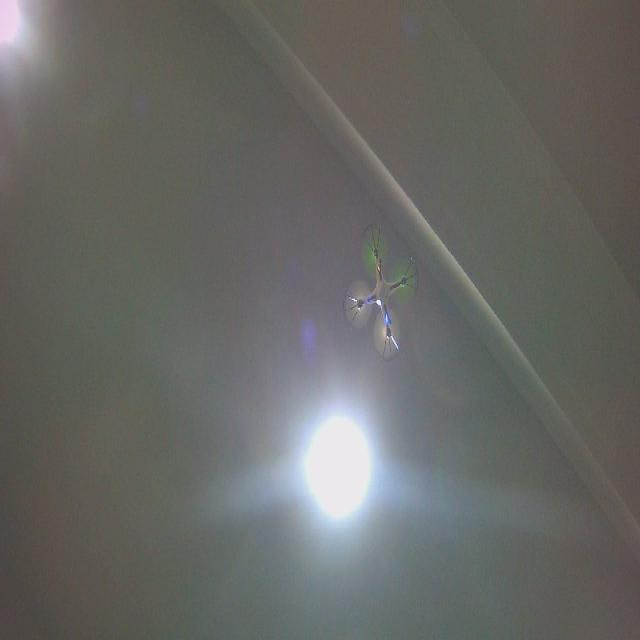drone: (340, 222, 422, 364)
